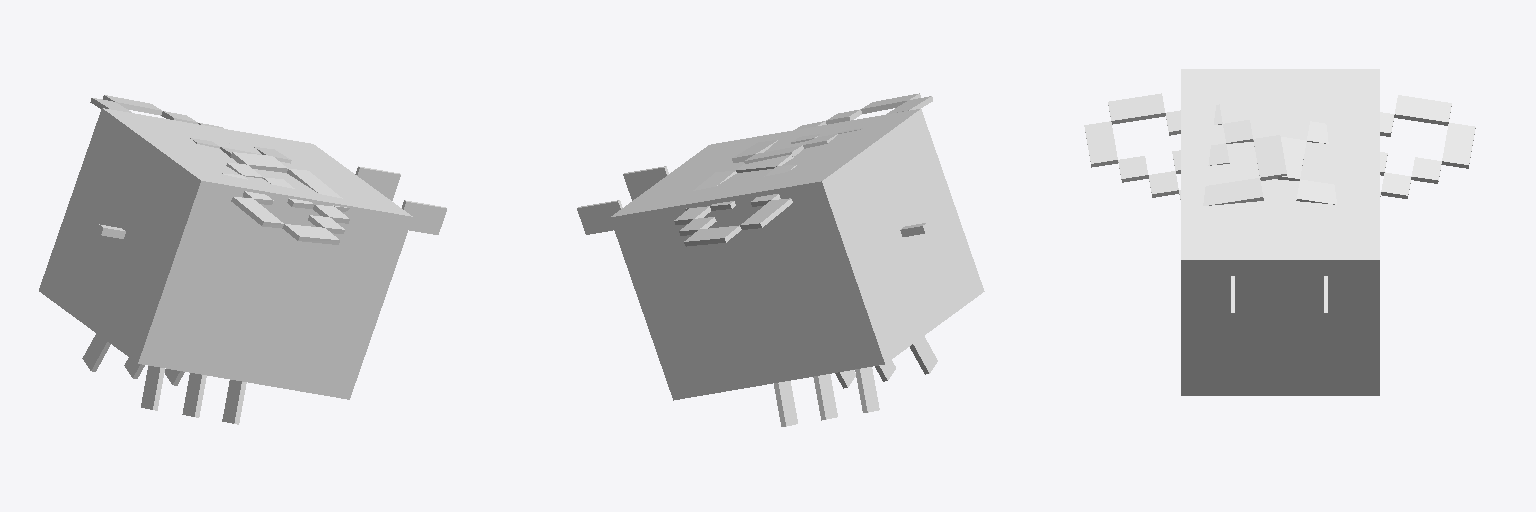
File: bee.obj
The picture shows the model from 3 angles: view 1: azimuth 30°, elevation 25°; view 2: azimuth 150°, elevation 25°; view 3: azimuth 270°, elevation 25°; orthographic projection.
Parts seen in each view (by area): view 1: b, l, r; view 2: b, r, l; view 3: b, l, r.
Boxes of the visible parts, box(x1,y1,x2,y2) form: b: box(39, 108, 446, 424); l: box(222, 152, 349, 244); r: box(90, 95, 291, 163); b: box(577, 109, 984, 426); r: box(674, 154, 796, 246); l: box(732, 93, 932, 163); b: box(1181, 69, 1379, 395); l: box(1084, 93, 1286, 205); r: box(1278, 95, 1475, 204).
Bounding box in the file's own units: 0.7653 × 0.5974 × 0.7751.